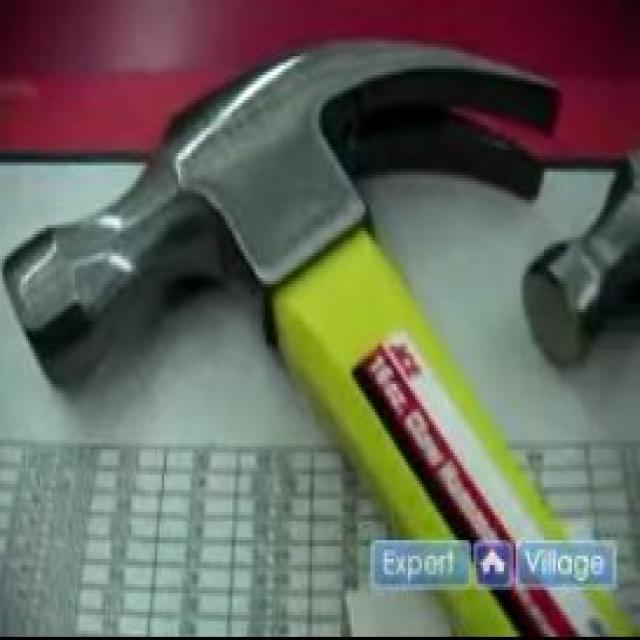hammer: (0, 16, 640, 640), (495, 128, 640, 384)
